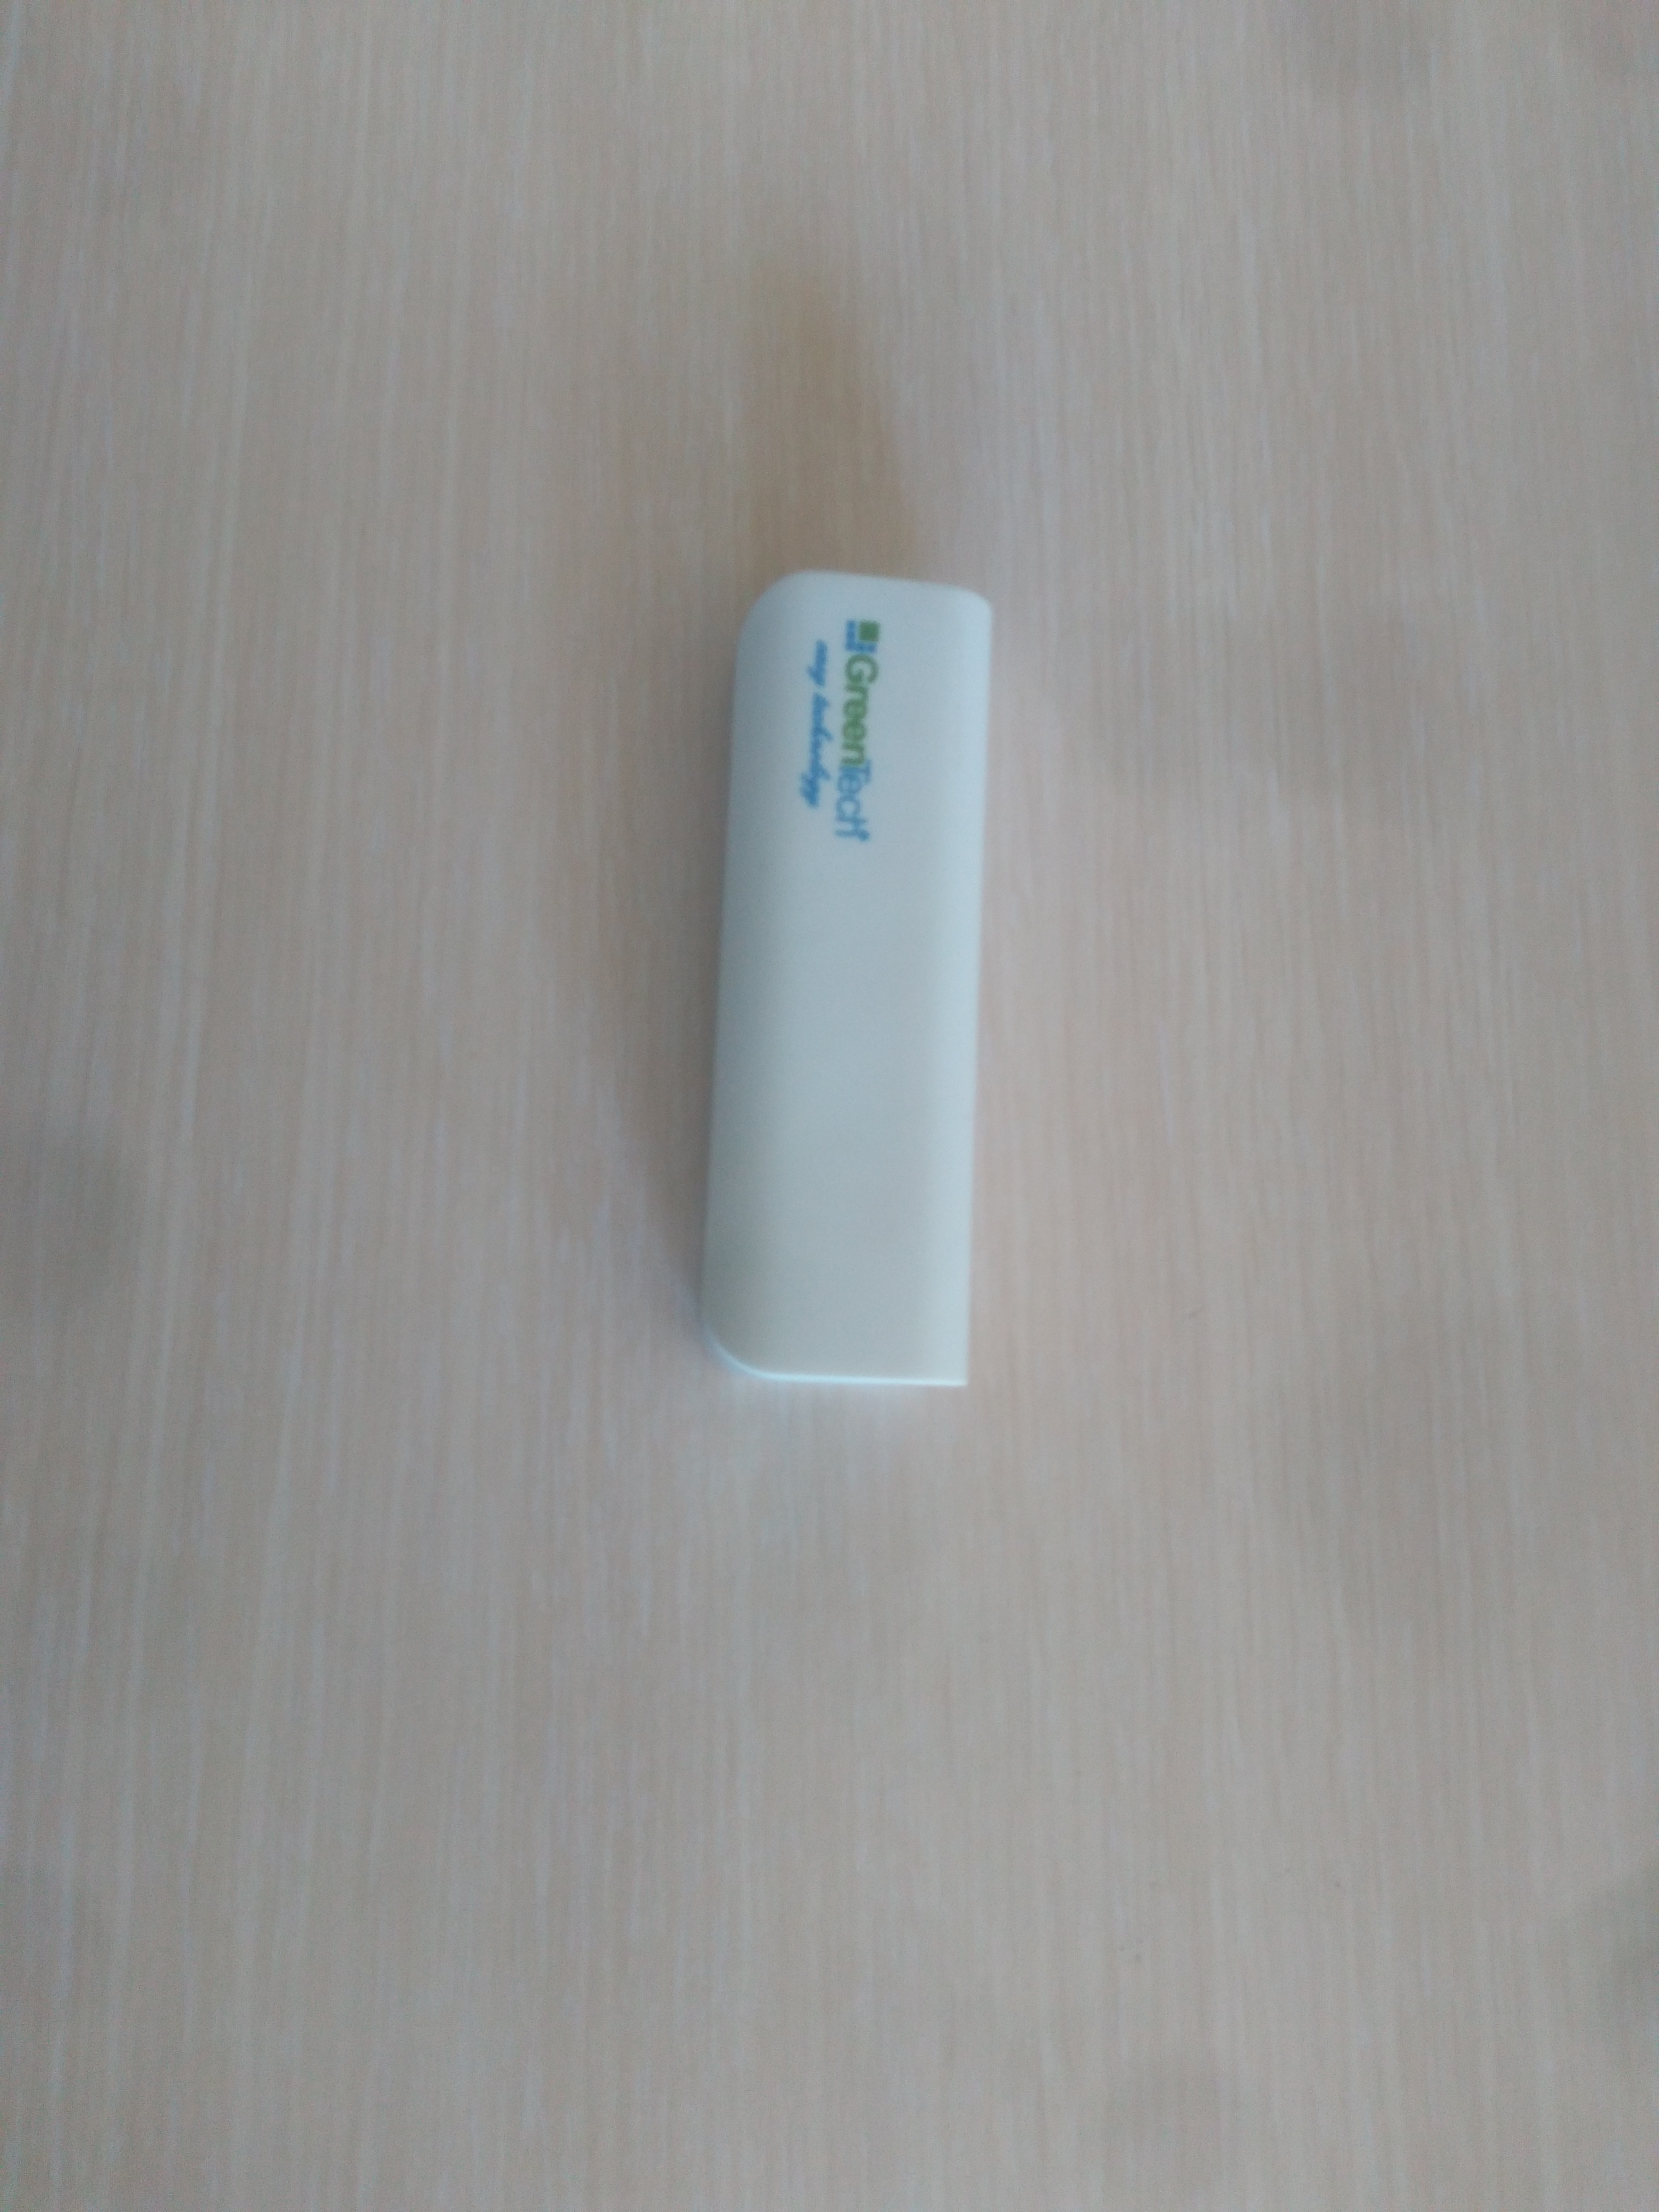powerbank: (690, 540, 1000, 1406)
